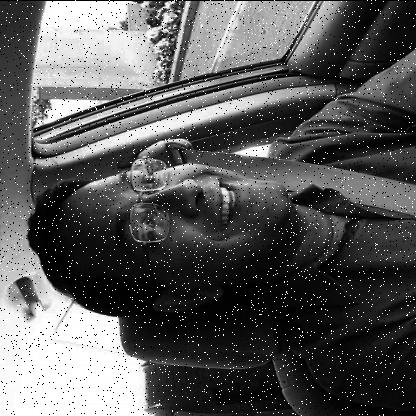seatbelt: (34, 137, 416, 317)
